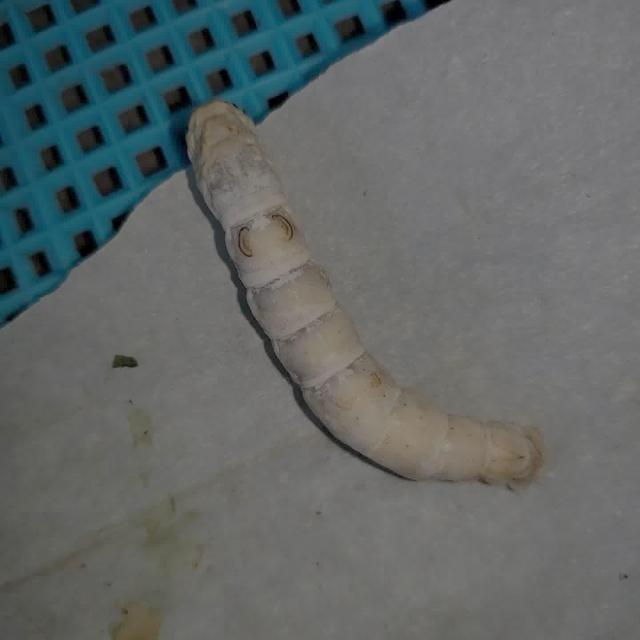Grasserie: (157, 69, 565, 518)
